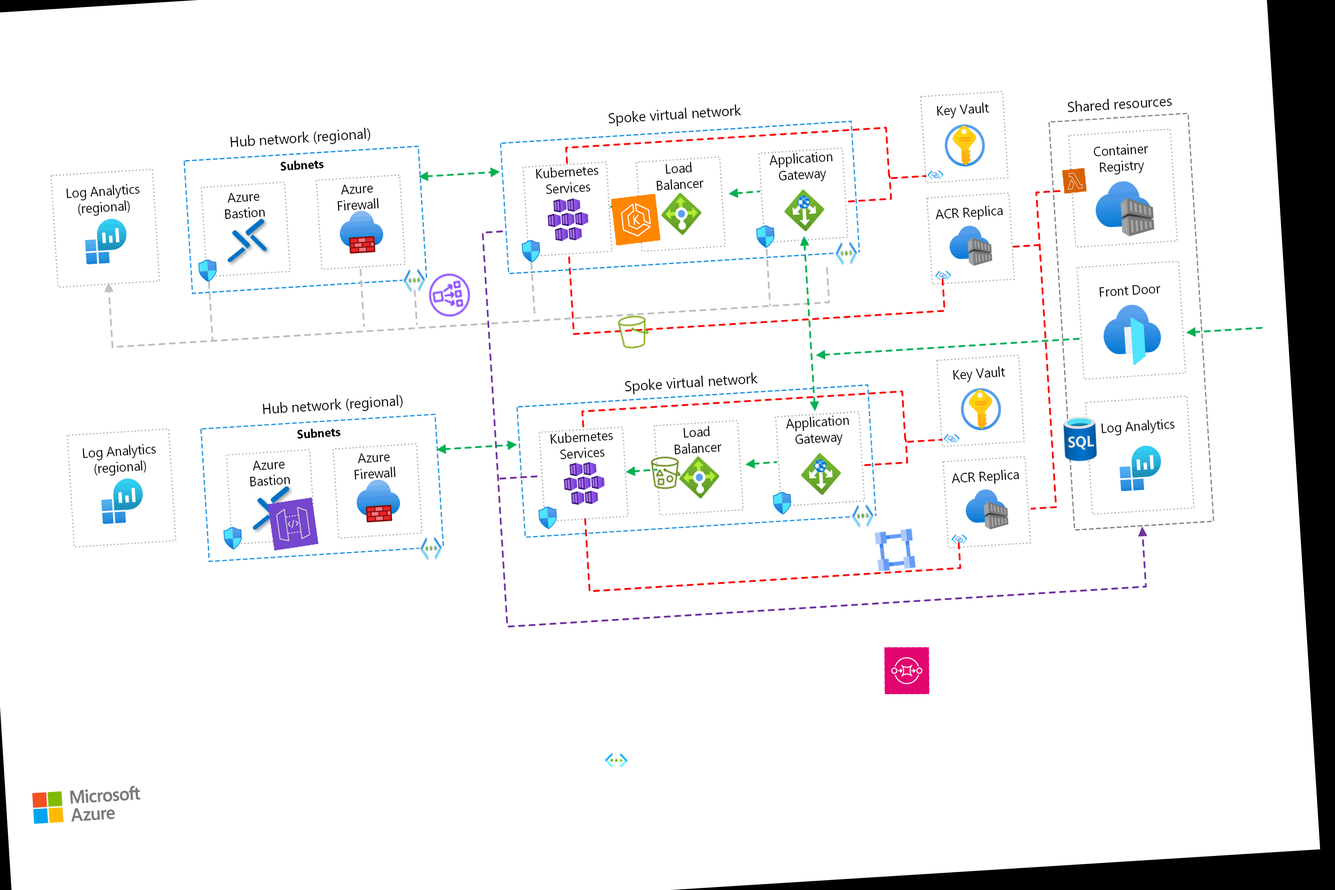aws_amazon_api_gateway: (267, 497, 319, 551)
aws_amazon_elastic_kubernetes_service: (611, 193, 661, 246)
aws_amazon_simple_queue_service: (882, 644, 932, 697)
aws_elastic_load_balancing_network_load_balancer: (424, 268, 475, 322)
aws_lambda: (1062, 167, 1087, 194)
aws_simple_storage_service_bucket_with_objects: (647, 453, 685, 492)
aws_simple_storage_service_s3_standard: (615, 312, 652, 352)
azure_sql_database: (1055, 413, 1104, 464)
azure_virtual_networks: (603, 747, 629, 774)
gcp_virtual_private_cloud: (870, 524, 920, 576)
